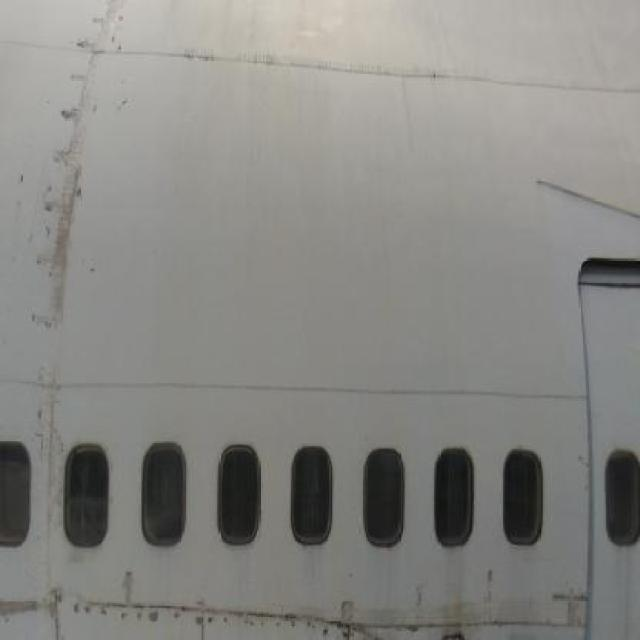Missing-Rivet: (3, 580, 569, 634)
Scartch: (20, 15, 132, 450)
